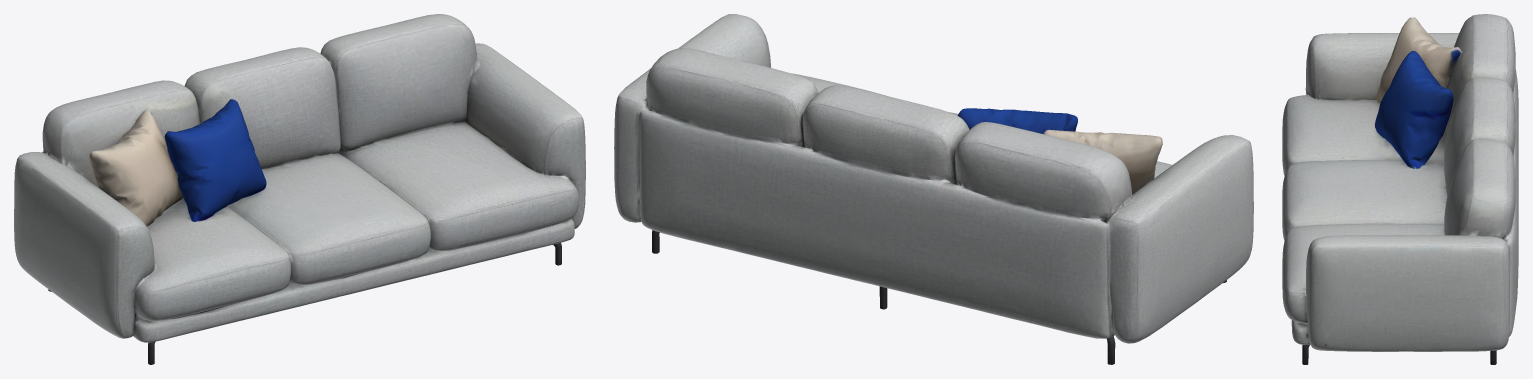
Rendered from 29-sofa.glb.
3 views of the same model, side by side, from view 1: azimuth 30°, elevation 25°; view 2: azimuth 150°, elevation 25°; view 3: azimuth 270°, elevation 25° (orthographic). The views are drawn at different scales.
Visible parts, largest first — view 1: tripo_node_b887982d-333a-4ae5-963c-ca27b456e438; view 2: tripo_node_b887982d-333a-4ae5-963c-ca27b456e438; view 3: tripo_node_b887982d-333a-4ae5-963c-ca27b456e438.
Boxes of the visible parts, bbox=[...] form: tripo_node_b887982d-333a-4ae5-963c-ca27b456e438: bbox=[14, 14, 585, 364]; tripo_node_b887982d-333a-4ae5-963c-ca27b456e438: bbox=[614, 14, 1253, 364]; tripo_node_b887982d-333a-4ae5-963c-ca27b456e438: bbox=[1282, 14, 1518, 364].
Bounding box in the file's own units: 1 × 0.3605 × 0.4529.
1 material, 1 textured.
